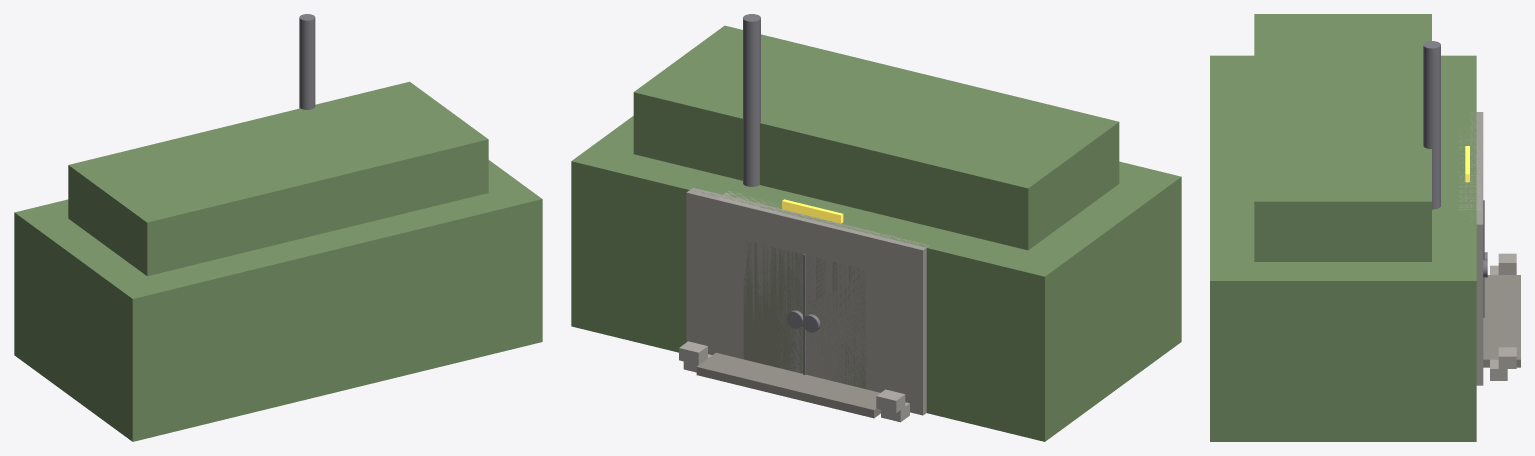
File: bunker_entrance.glb
3 renders of one model, left to right at view 1: azimuth 30°, elevation 25°; view 2: azimuth 150°, elevation 25°; view 3: azimuth 270°, elevation 25°, orthographic. The views are drawn at different scales.
Visible parts, largest first — view 1: hill_base, hill_top, vent; view 2: hill_base, hill_top, rock_face, door_r, step, door_l, vent, sign_board, frame; view 3: hill_base, hill_top, step, vent, rock_face, frame, sandbag_4, sandbag_3.
Boxes of the visible parts, x1,y1,x2,y2 form: hill_base: (14, 160, 542, 441); hill_top: (68, 81, 488, 276); vent: (299, 14, 315, 109); hill_base: (571, 116, 1181, 441); hill_top: (633, 25, 1119, 250); rock_face: (686, 187, 928, 415); door_r: (743, 240, 802, 373); step: (696, 352, 880, 418); door_l: (806, 255, 865, 388); vent: (743, 14, 760, 186); sign_board: (782, 199, 843, 223); frame: (717, 191, 894, 242); hill_base: (1210, 55, 1476, 441); hill_top: (1254, 14, 1431, 261); step: (1483, 275, 1520, 367); vent: (1423, 41, 1440, 209); rock_face: (1470, 112, 1483, 385); frame: (1458, 130, 1480, 210); sandbag_4: (1498, 347, 1516, 368); sandbag_3: (1498, 253, 1516, 274).
Size of the model in its own units: 12 by 8 by 7.
